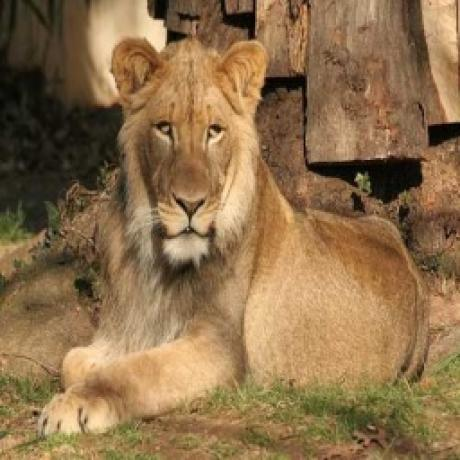Lion: (35, 32, 432, 440)
